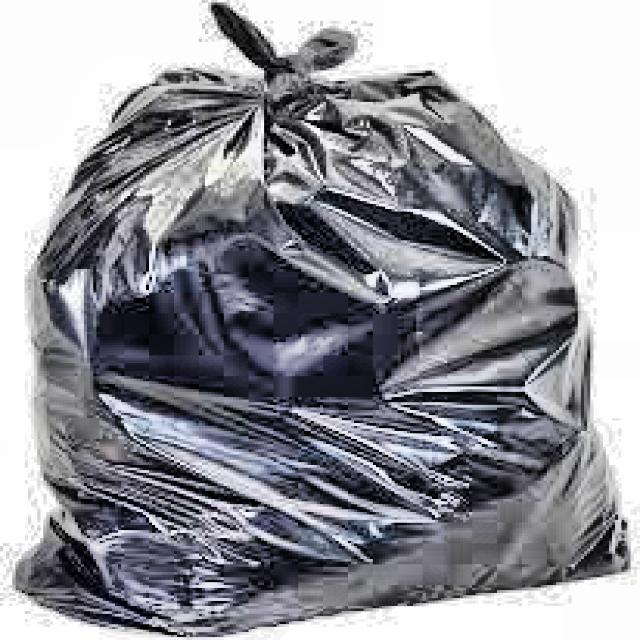garbage: (3, 0, 637, 637)
